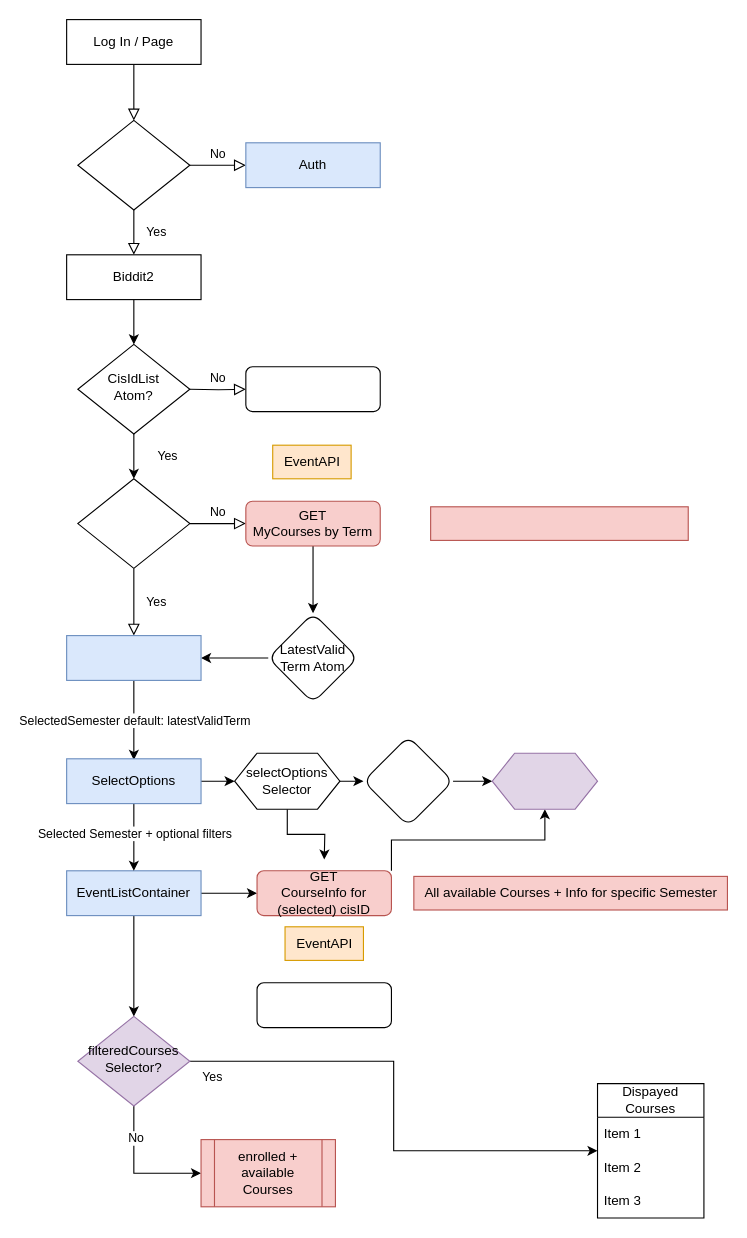
The diagram is 747 pixels wide and 1238 high, and some of its shapes have lost their labels. Here are the shapes that lost their labels. From the top down, the centre of each, then its label:
At (133,164): "account readable?".
At (312,389): "GET Cis Term and Phase Info".
At (133,523): "enrolledCourses Atom?".
At (559,523): "Enrolled courses for current Semester".
At (133,657): "SelectSemester".
At (407,780): "selectedOptions Atom".
At (544,780): "filteredCourses Selector".
At (323,1005): "GET My Courses for seletced Term".
